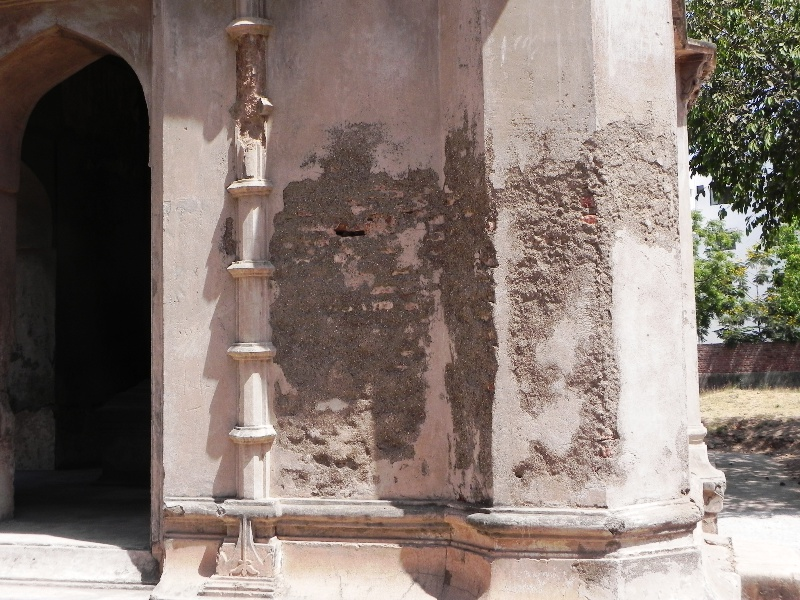Spalling: (269, 120, 436, 496), (499, 121, 608, 487), (440, 108, 493, 497), (611, 94, 681, 243), (232, 26, 268, 136)
